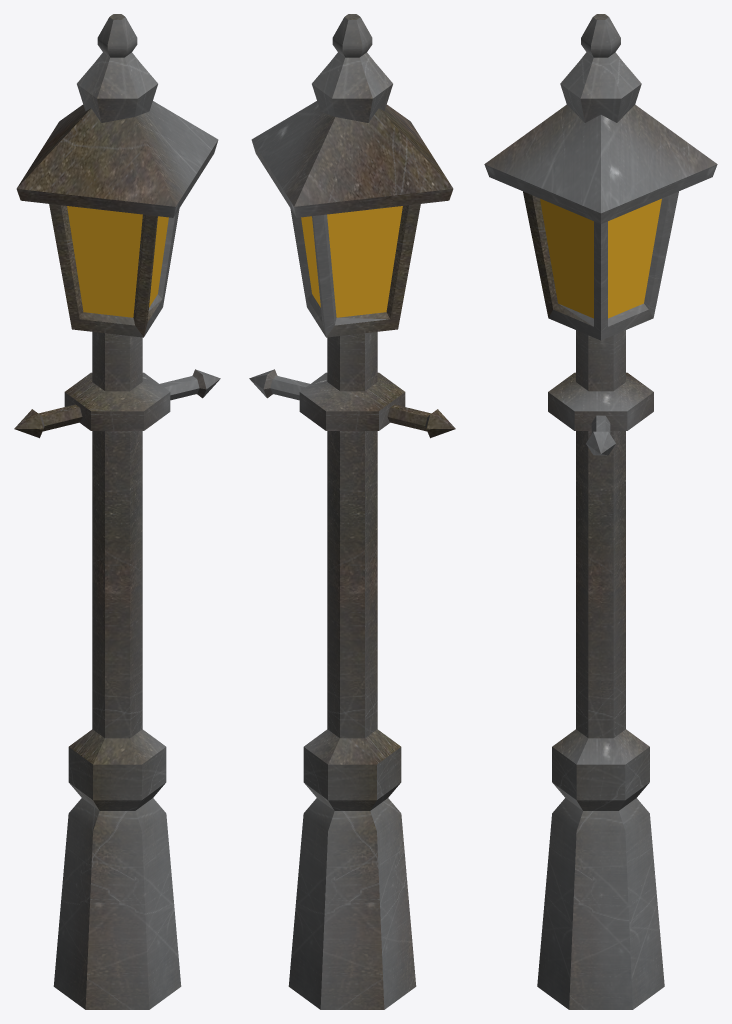
The model's file is lamppost.glb.
3 renders of one model, left to right at view 1: azimuth 30°, elevation 25°; view 2: azimuth 150°, elevation 25°; view 3: azimuth 270°, elevation 25°, orthographic.
Visible parts, largest first — view 1: lampPost; view 2: lampPost; view 3: lampPost.
Part boxes in pixels (x1,y1,x2,y2): lampPost: [14, 14, 220, 1009]; lampPost: [249, 14, 455, 1009]; lampPost: [484, 14, 717, 1009].
Bounding box in the file's own units: 0.6702 × 3 × 0.6541.
2 materials, 1 textured.
